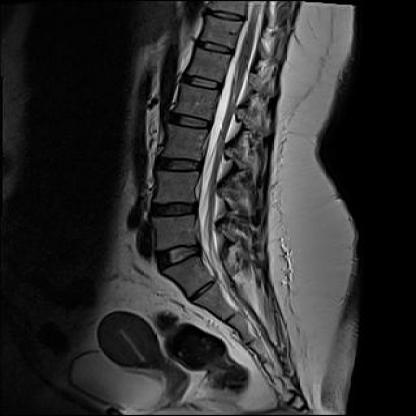Degenerative Disc Diseaserotation: (150, 244, 205, 272), (147, 196, 201, 221)
Disc Relaxationrotation: (151, 243, 206, 273)
